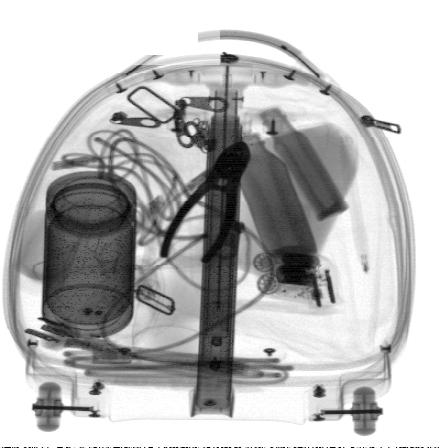Pliers: (159, 139, 249, 266)
